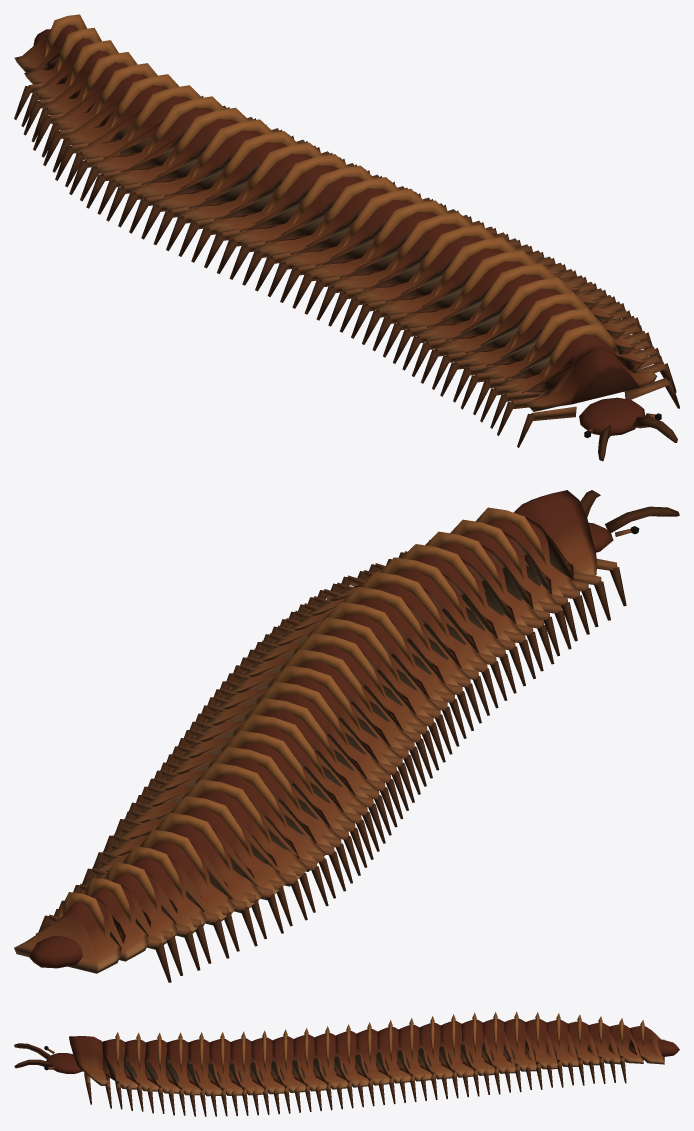
File: ArthropleuraCristata.fbx
The picture shows the model from 3 angles, top to bottom: view 1: azimuth 30°, elevation 25°; view 2: azimuth 150°, elevation 25°; view 3: azimuth 270°, elevation 25°; orthographic projection. The views are drawn at different scales.
Parts seen in each view (by area): view 1: ArthropleuraCristata; view 2: ArthropleuraCristata; view 3: ArthropleuraCristata.
Boxes of the visible parts, x1=… form: ArthropleuraCristata: x1=14, y1=14, x2=679, y2=461; ArthropleuraCristata: x1=14, y1=490, x2=679, y2=982; ArthropleuraCristata: x1=14, y1=1011, x2=679, y2=1116.
Size of the model in its own units: 0.5541 by 0.1649 by 1.95.
